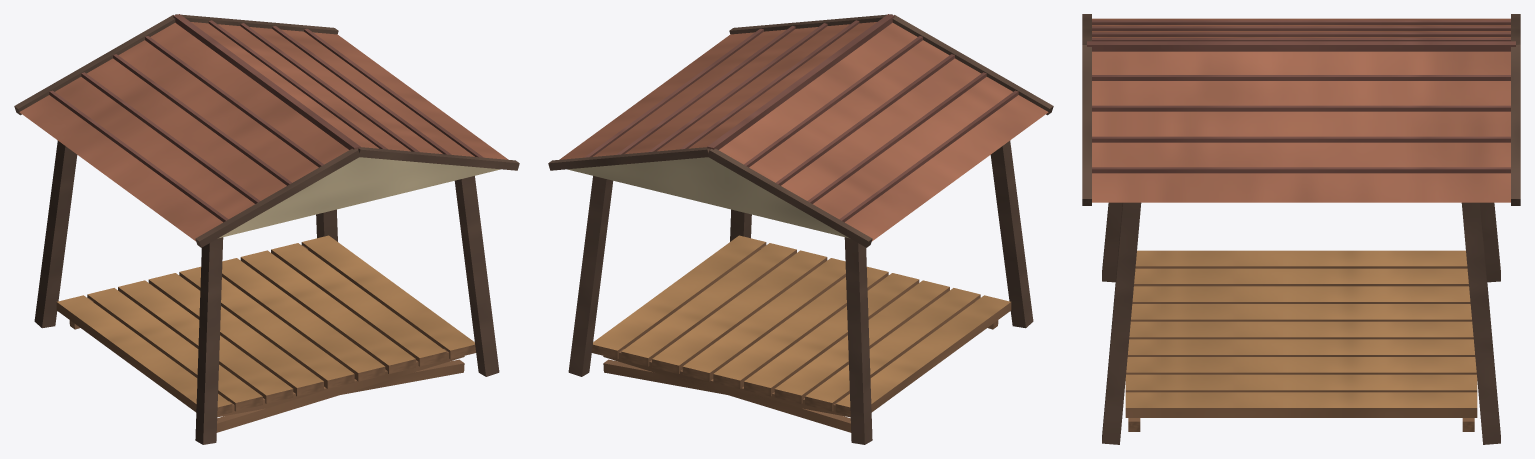
Rendered from gazebo.fbx.
3 renders of one model, left to right at view 1: azimuth 30°, elevation 25°; view 2: azimuth 150°, elevation 25°; view 3: azimuth 270°, elevation 25°, orthographic. The views are drawn at different scales.
Visible parts, largest first — view 1: gazebo; view 2: gazebo; view 3: gazebo.
Part boxes in pixels (bbox=[...]): gazebo: bbox=[14, 14, 519, 444]; gazebo: bbox=[548, 14, 1053, 444]; gazebo: bbox=[1082, 14, 1520, 444].
Size of the model in its own units: 500 by 400 by 500.
1 material, 1 textured.
